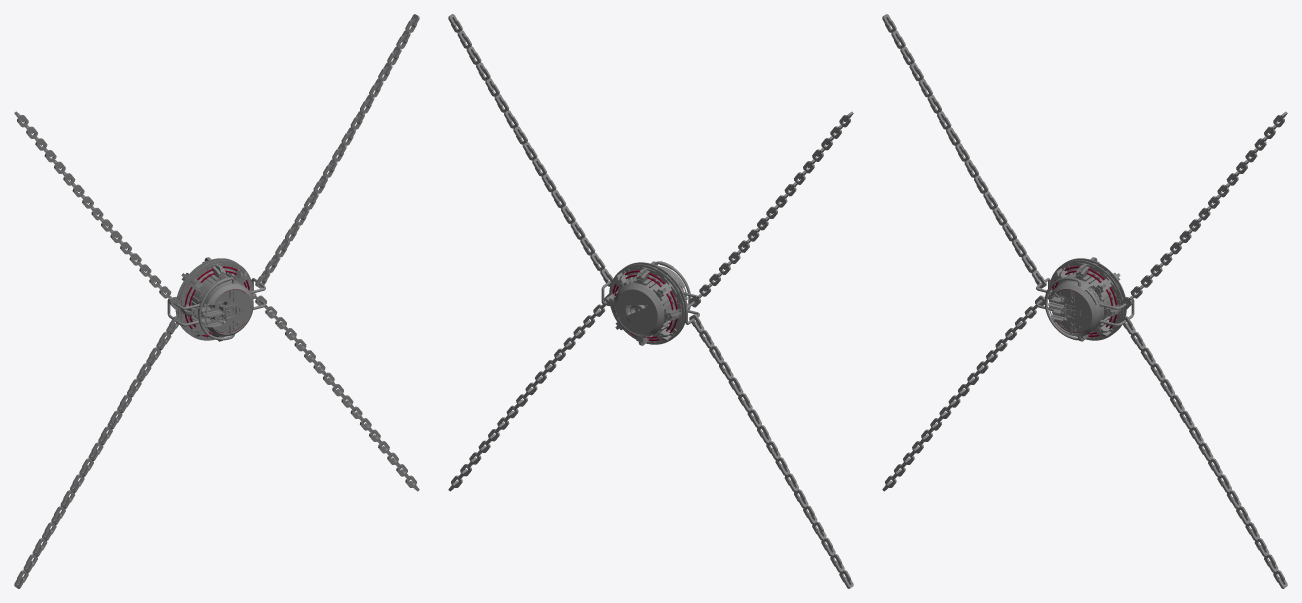
The model's file is tech_07_low.fbx.
The picture shows the model from 3 angles, left to right: view 1: azimuth 30°, elevation 25°; view 2: azimuth 150°, elevation 25°; view 3: azimuth 330°, elevation 25°; orthographic projection.
Parts seen in each view (by area): view 1: tech_07.014_low, tech_07.001_low, tech_07.003_low, tech_07.005_low; view 2: tech_07.014_low, tech_07.001_low, tech_07.003_low, tech_07.005_low; view 3: tech_07.014_low, tech_07.001_low, tech_07.003_low, tech_07.005_low.
Part boxes in pixels (x1,y1,x2,y2): tech_07.014_low: [14, 14, 419, 588]; tech_07.001_low: [192, 277, 253, 336]; tech_07.003_low: [176, 257, 256, 341]; tech_07.005_low: [175, 258, 252, 340]; tech_07.014_low: [448, 14, 853, 588]; tech_07.001_low: [614, 266, 687, 336]; tech_07.003_low: [606, 261, 690, 345]; tech_07.005_low: [609, 262, 686, 344]; tech_07.014_low: [882, 14, 1287, 588]; tech_07.001_low: [1048, 277, 1109, 336]; tech_07.003_low: [1047, 257, 1124, 341]; tech_07.005_low: [1049, 258, 1126, 340].
Size of the model in its own units: 1625 by 1835 by 199.
